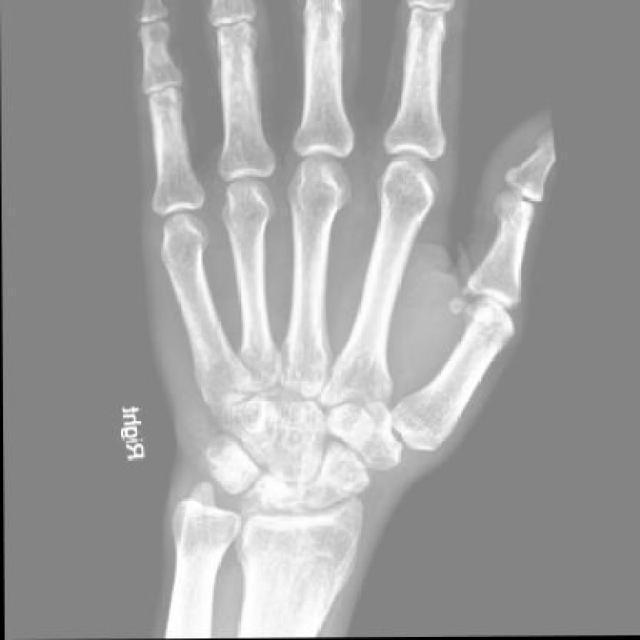Fracture: (256, 465, 315, 513)
